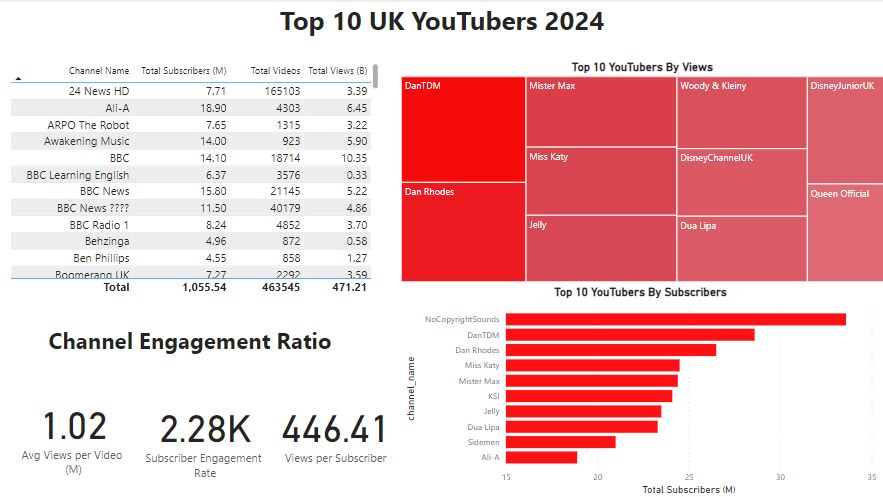

What the dashboard file says about the page in this screenshot:
{"tool":"powerbi","page":{"name":"Page 1","canvas":[1280,720],"ordinal":0},"visuals":[{"type":"textbox","box":[313.9,0,650.9,87.8],"z":0},{"type":"tableEx","fields":{"Values":["view_youtubers.channel_name","view_youtubers.Total Subscribers (M)","view_youtubers.Total Videos","view_youtubers.Total Views"]},"box":[13,87.8,540,342.7],"z":1000},{"type":"treemap","title":"Top 10 YouTubers By Views","fields":{"Group":["view_youtubers.channel_name"],"Values":["view_youtubers.Total Views"]},"box":[576,87.8,704.2,324],"z":2000},{"type":"card","fields":{"Values":["view_youtubers.Avg Views per Video"]},"box":[13,525.6,191.5,184.3],"z":3000},{"type":"card","fields":{"Values":["view_youtubers.Subscriber Engagement Rate"]},"box":[204.5,525.6,187.2,194.4],"z":4000},{"type":"card","fields":{"Values":["view_youtubers.View per Subscriber"]},"box":[391.7,525.6,188.6,194.4],"z":5000},{"type":"clusteredBarChart","title":"Top 10 YouTubers By Subscribers","fields":{"Category":["view_youtubers.channel_name"],"Y":["view_youtubers.Total Subscribers (M)"]},"box":[580.3,411.8,689.8,308.2],"z":6000},{"type":"textbox","box":[0,463.7,553,61.9],"z":7000}]}

Visuals, with their boxes in screenshot pixels (x1, y1, x2, y2), scaled from the page's 1280x720 canvas onto the 883x497 screenshot:
textbox: (left=217, top=0, right=666, bottom=61)
tableEx - view_youtubers.channel_name x view_youtubers.Total Subscribers (M): (left=9, top=61, right=381, bottom=297)
"Top 10 YouTubers By Views" treemap: (left=397, top=61, right=882, bottom=284)
card - view_youtubers.Avg Views per Video: (left=9, top=363, right=141, bottom=490)
card - view_youtubers.Subscriber Engagement Rate: (left=141, top=363, right=270, bottom=496)
card - view_youtubers.View per Subscriber: (left=270, top=363, right=400, bottom=496)
"Top 10 YouTubers By Subscribers" clusteredBarChart: (left=400, top=284, right=876, bottom=496)
textbox: (left=0, top=320, right=381, bottom=363)
